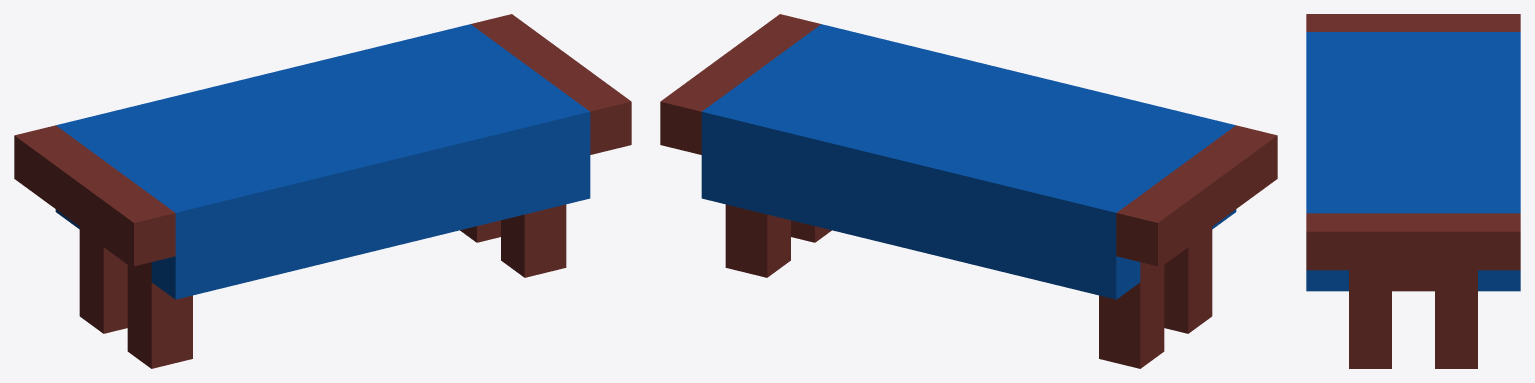
Rendered from large_bench_b_blue.obj.
3 renders of one model, left to right at view 1: azimuth 30°, elevation 25°; view 2: azimuth 150°, elevation 25°; view 3: azimuth 270°, elevation 25°, orthographic. The views are drawn at different scales.
Size of the model in its own units: 1.2 by 0.4 by 0.5.
Materials: 1 (1 with a texture image).
